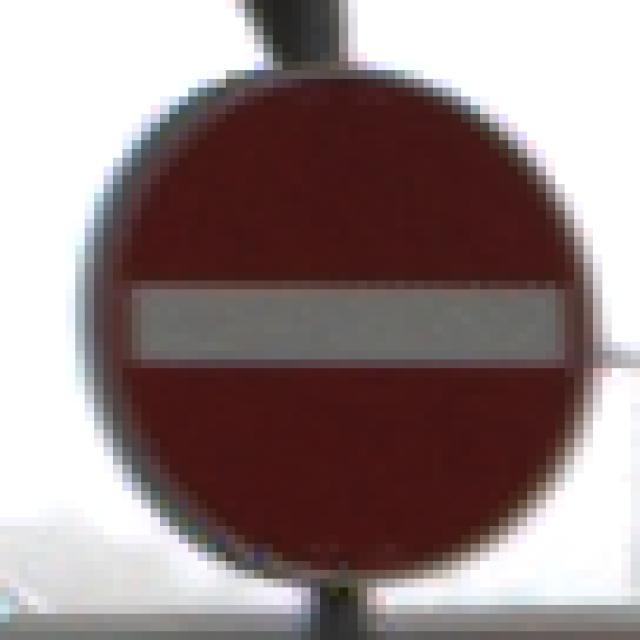no entry: (51, 45, 621, 584)
